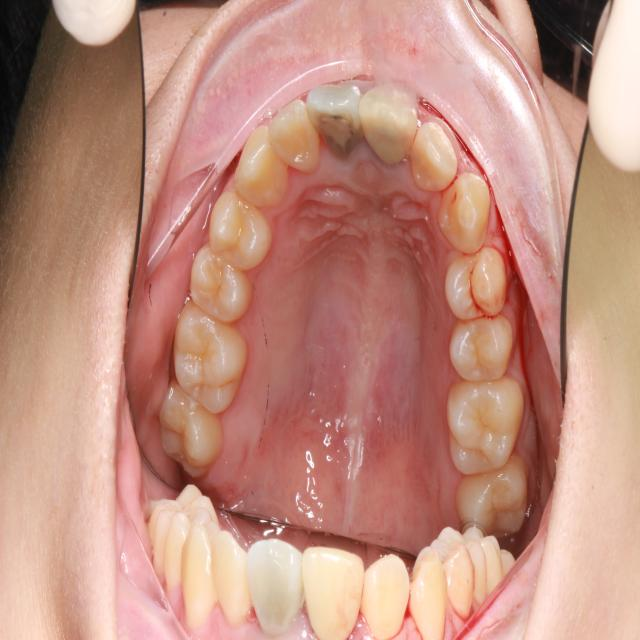tooth: (156, 292, 253, 419), (440, 366, 526, 480), (147, 372, 231, 484), (448, 456, 533, 548), (353, 65, 421, 173), (181, 235, 259, 328), (437, 298, 522, 383), (207, 181, 274, 281), (226, 116, 292, 212), (438, 238, 510, 326), (434, 161, 495, 258), (305, 72, 366, 163), (265, 89, 323, 181), (406, 116, 460, 197)
